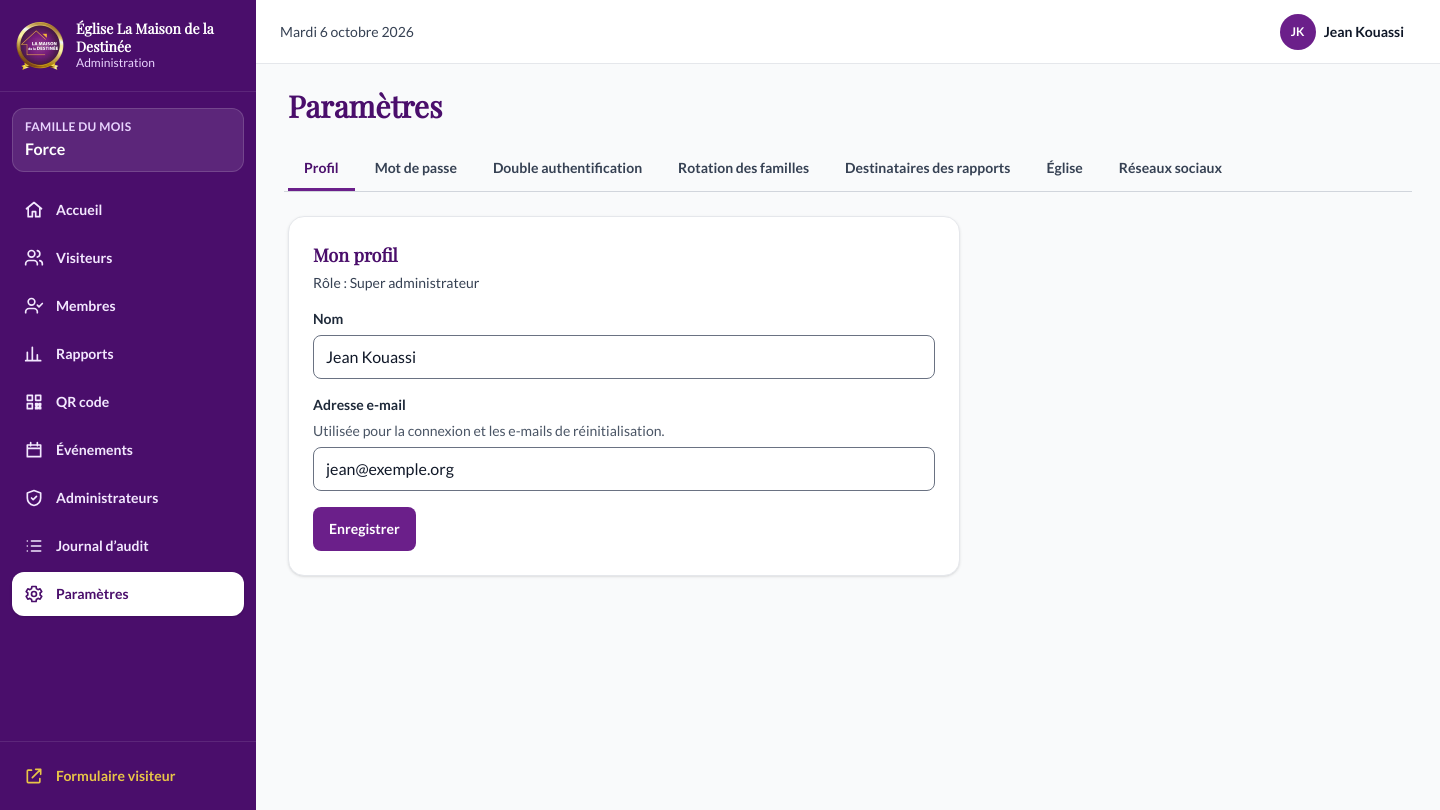
Scenario: profil › n’envoie pas de mot de passe quand seul le nom change
The image size is (1440, 810).
Step 1. Replace the text in the field labelled "Nom" with "Jean-Marc Kouassi" → (624, 357), box [313,335,935,379]
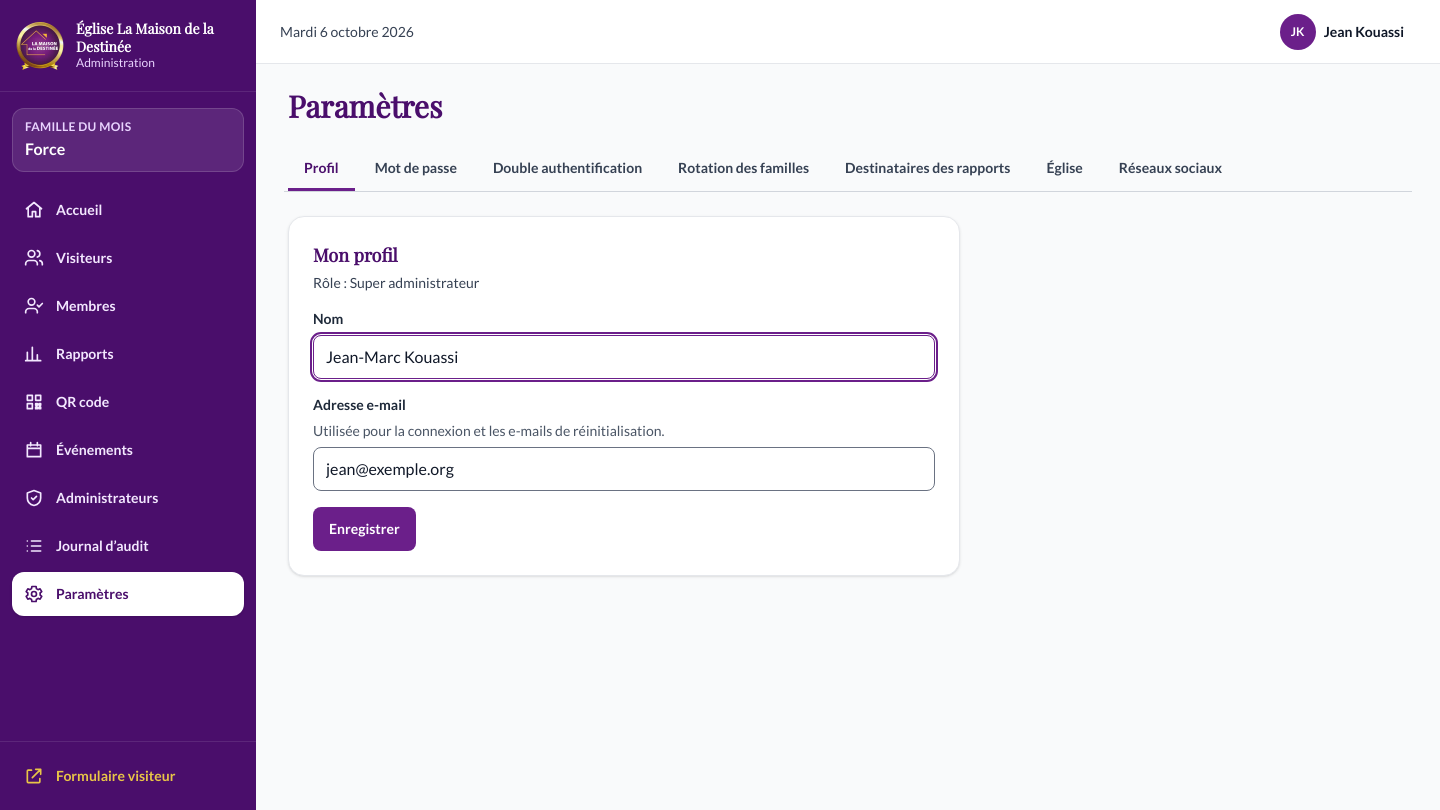
Step 2. Click the button "Enregistrer" → (364, 529), box [313,507,416,551]
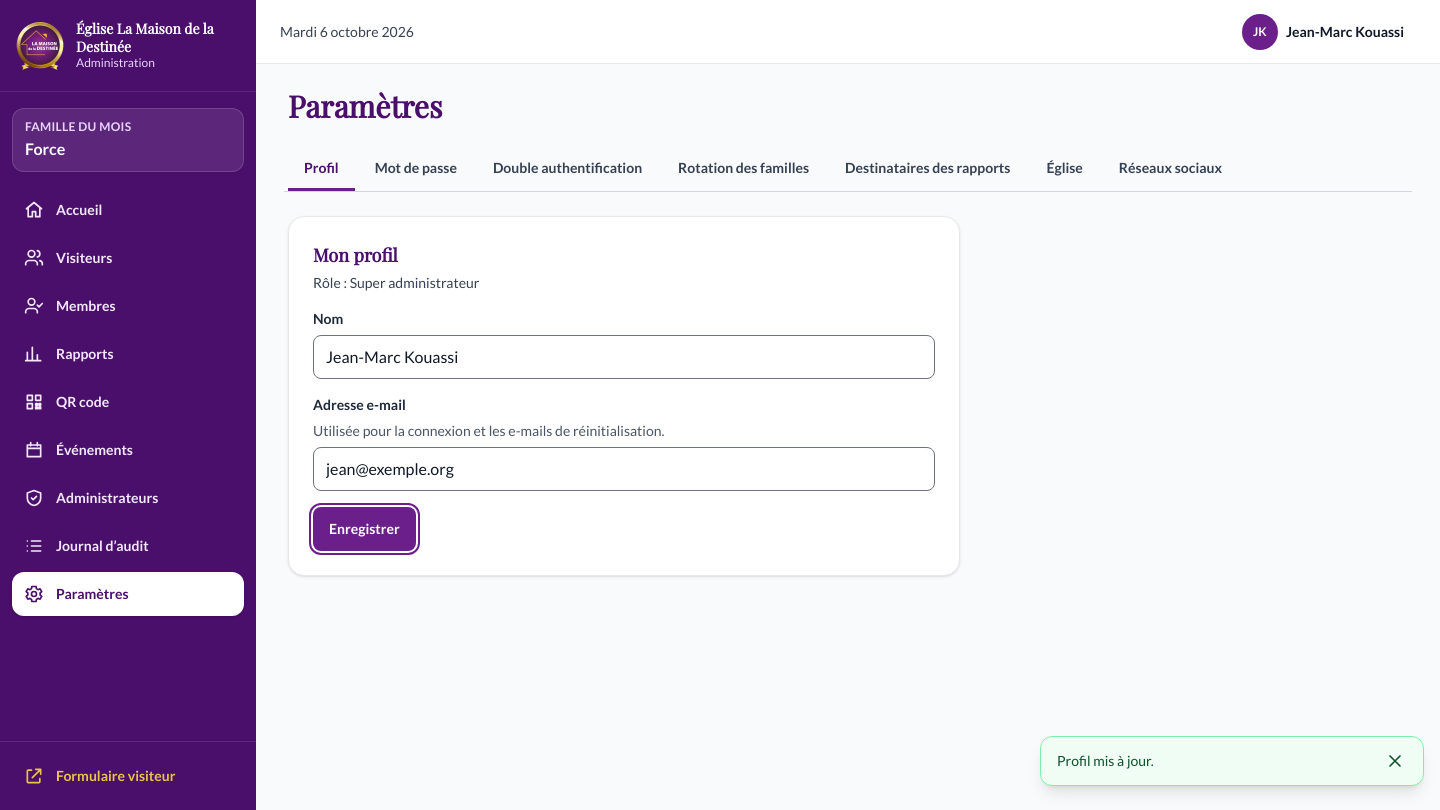
Check: the text "Profil mis à jour." is shown, box [1057,752,1154,769]
